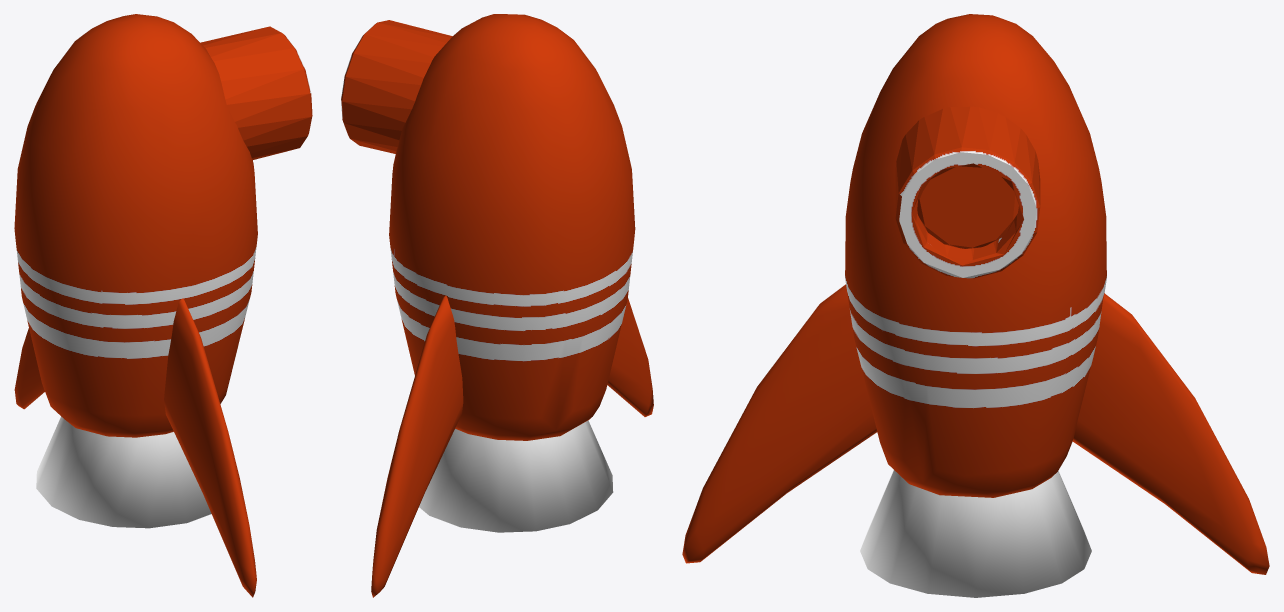
The model's file is RedShip61.fbx.
3 views of the same model, side by side, from view 1: azimuth 30°, elevation 25°; view 2: azimuth 150°, elevation 25°; view 3: azimuth 270°, elevation 25° (orthographic). The views are drawn at different scales.
Parts seen in each view (by area): view 1: Cylinder.001; view 2: Cylinder.001; view 3: Cylinder.001.
Boxes of the visible parts, left/top/right/bottom form: Cylinder.001: left=14, top=14, right=312, bottom=597; Cylinder.001: left=341, top=14, right=653, bottom=597; Cylinder.001: left=682, top=14, right=1269, bottom=597.
Size of the model in its own units: 118 by 219 by 213.
Materials: 1 (1 with a texture image).
